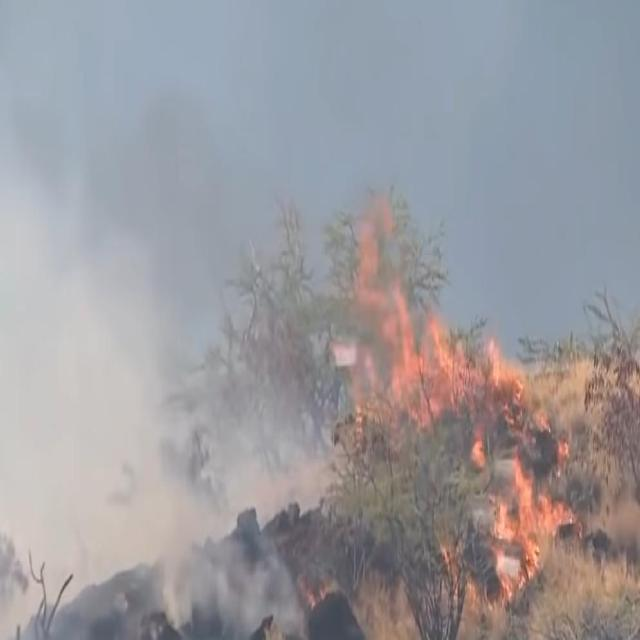Fire: (354, 178, 586, 588)
Smoke: (2, 0, 351, 640)
